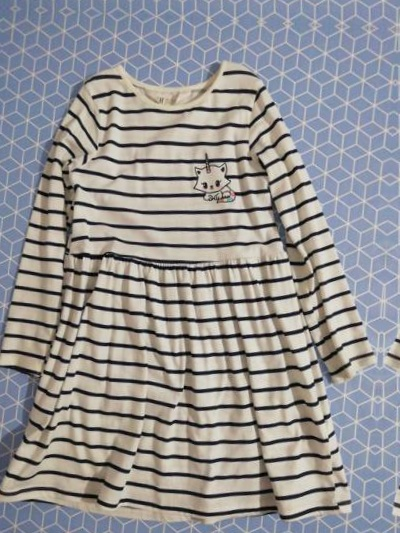Dress: (0, 57, 387, 533), (380, 79, 400, 533)
